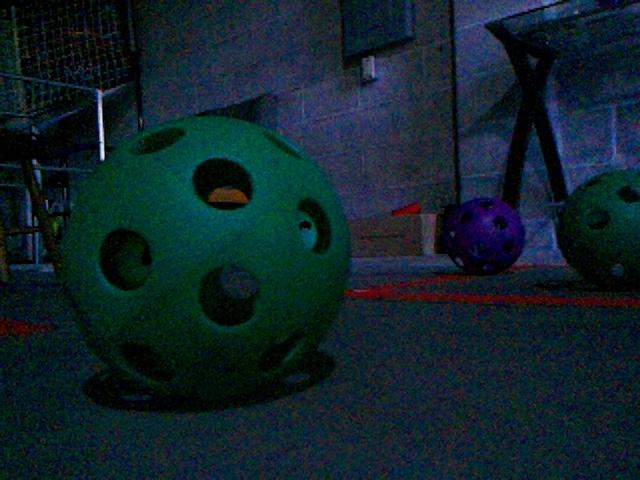Green: (58, 114, 352, 403), (554, 168, 638, 290)
Purple: (443, 196, 525, 274)
